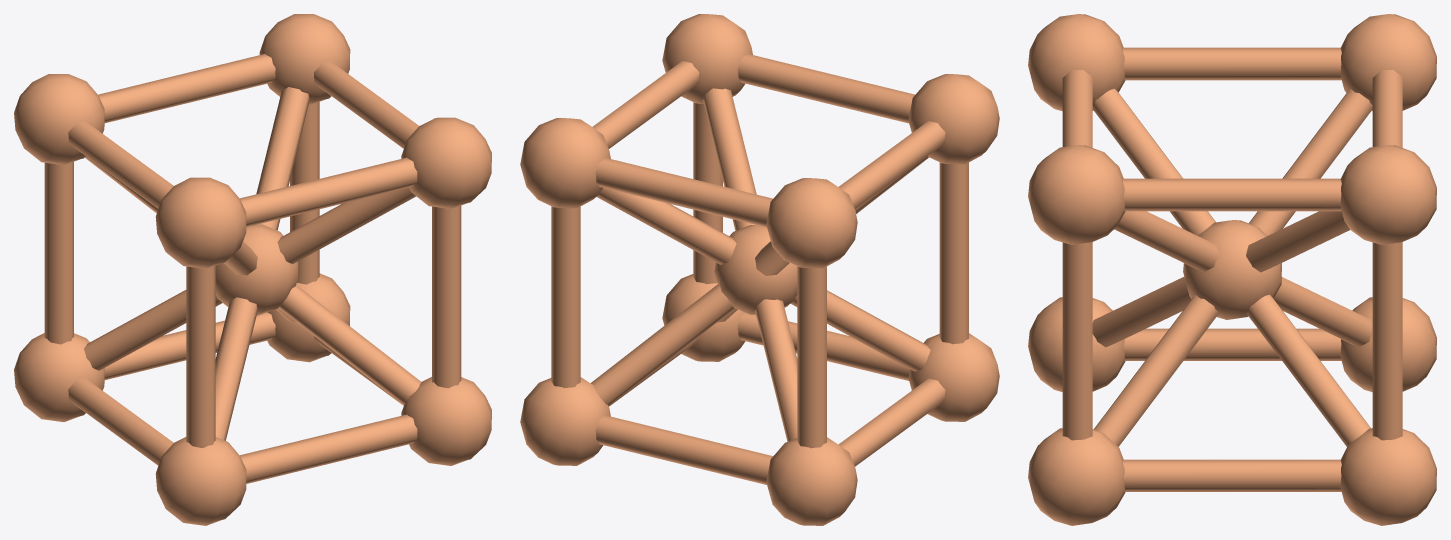
File: HIERRO.fbx
3 renders of one model, left to right at view 1: azimuth 30°, elevation 25°; view 2: azimuth 150°, elevation 25°; view 3: azimuth 270°, elevation 25°, orthographic. The views are drawn at different scales.
Parts seen in each view (by area): view 1: Fe.003; view 2: Fe.003; view 3: Fe.003.
Boxes of the visible parts, <box> form: Fe.003: <box>14,14,491,525</box>; Fe.003: <box>520,14,999,525</box>; Fe.003: <box>1028,14,1436,525</box>.
Size of the model in its own units: 15.67 by 15.75 by 15.65.
